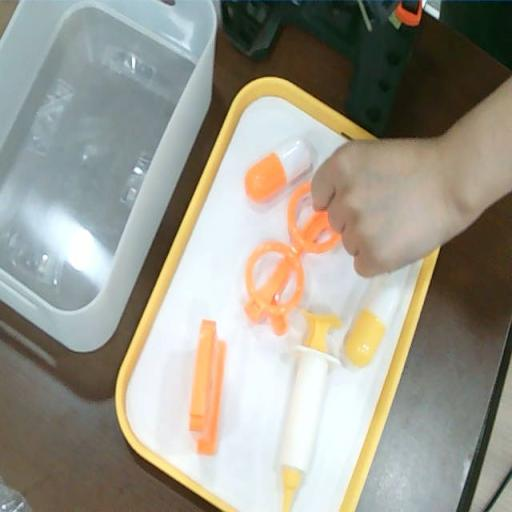hospital: (312, 134, 464, 280)
